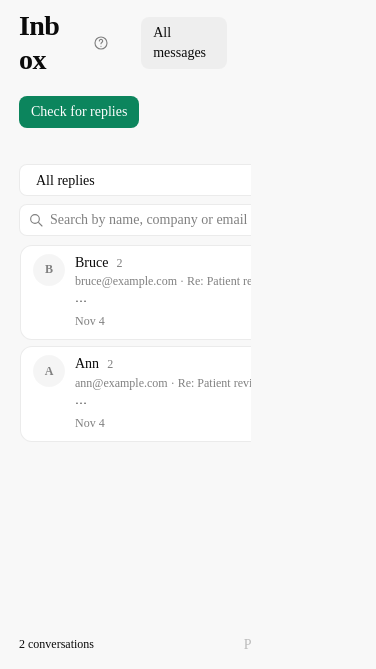
Test case: Inbox shows reply labels and filters by label without sending anything
Expected: the text "2 conversations" is shown, [19,637,94,653]
Select "Interested" in the dropdown named "Filter by reply label". click: (189, 180)
box: [19,164,359,196]
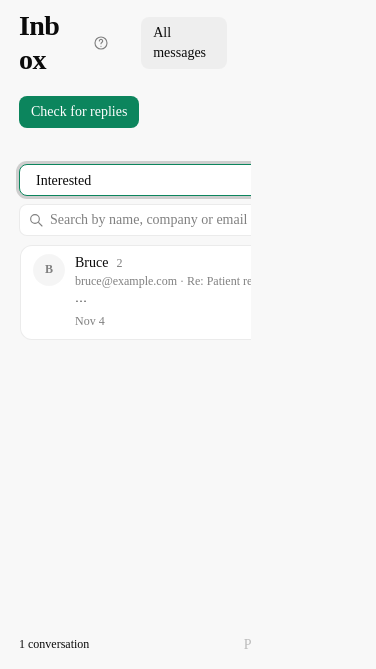
Now the text "1 conversation" is shown, box [19,637,89,653]
